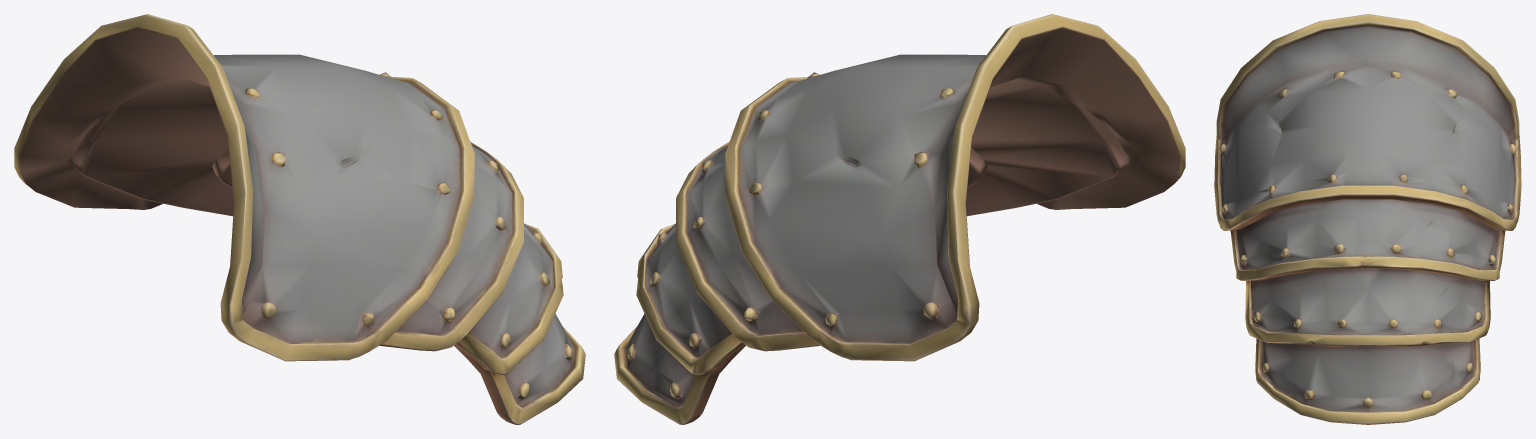
File: legion_pauldron.glb
3 renders of one model, left to right at view 1: azimuth 30°, elevation 25°; view 2: azimuth 150°, elevation 25°; view 3: azimuth 270°, elevation 25°, orthographic. The views are drawn at different scales.
Parts seen in each view (by area): view 1: model; view 2: model; view 3: model.
Part boxes in pixels (x1,y1,x2,y2): model: (14, 14, 585, 424); model: (614, 14, 1185, 424); model: (1214, 14, 1521, 424).
Bounding box in the file's own units: 1.14 × 1 × 0.9781.
Materials: 1 (1 with a texture image).
